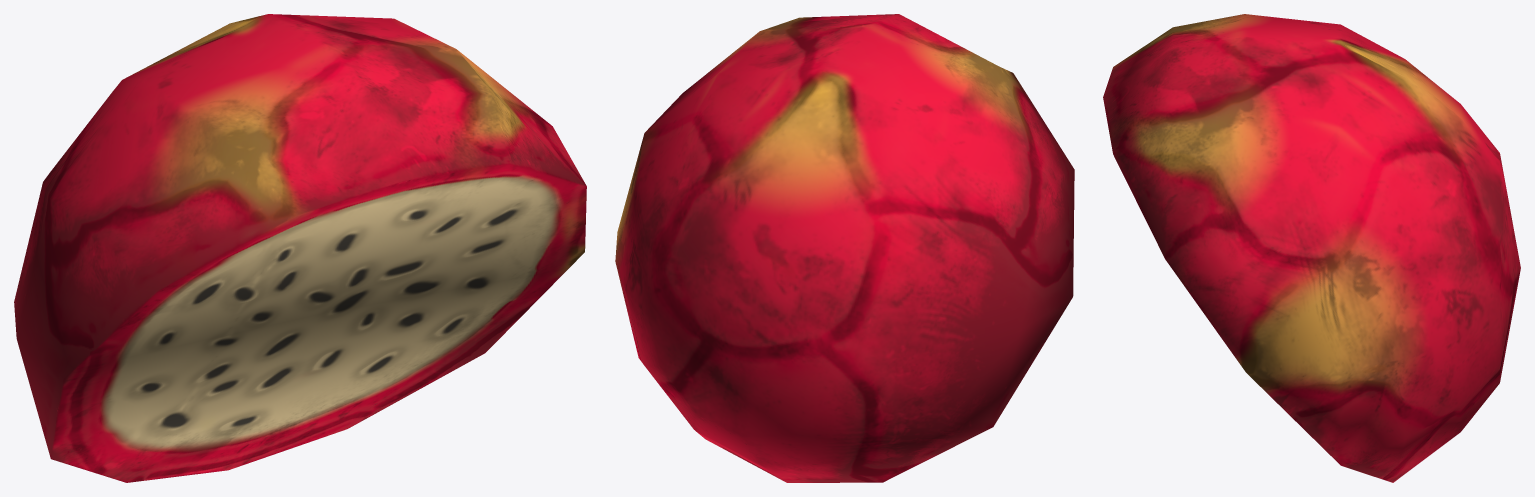
Rendered from DragonfruitB.glb.
3 views of the same model, side by side, from view 1: azimuth 30°, elevation 25°; view 2: azimuth 150°, elevation 25°; view 3: azimuth 270°, elevation 25° (orthographic). The views are drawn at different scales.
Parts seen in each view (by area): view 1: DragonfruitB_Dragonfruit_0; view 2: DragonfruitB_Dragonfruit_0; view 3: DragonfruitB_Dragonfruit_0.
Boxes of the visible parts, x1,y1,x2,y2 form: DragonfruitB_Dragonfruit_0: [14, 14, 586, 482]; DragonfruitB_Dragonfruit_0: [615, 14, 1074, 482]; DragonfruitB_Dragonfruit_0: [1103, 14, 1520, 482].
Bounding box in the file's own units: 0.8764 × 0.799 × 0.7235.
Materials: 1 (1 with a texture image).
